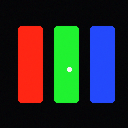0 point: (67, 67, 71, 71)
